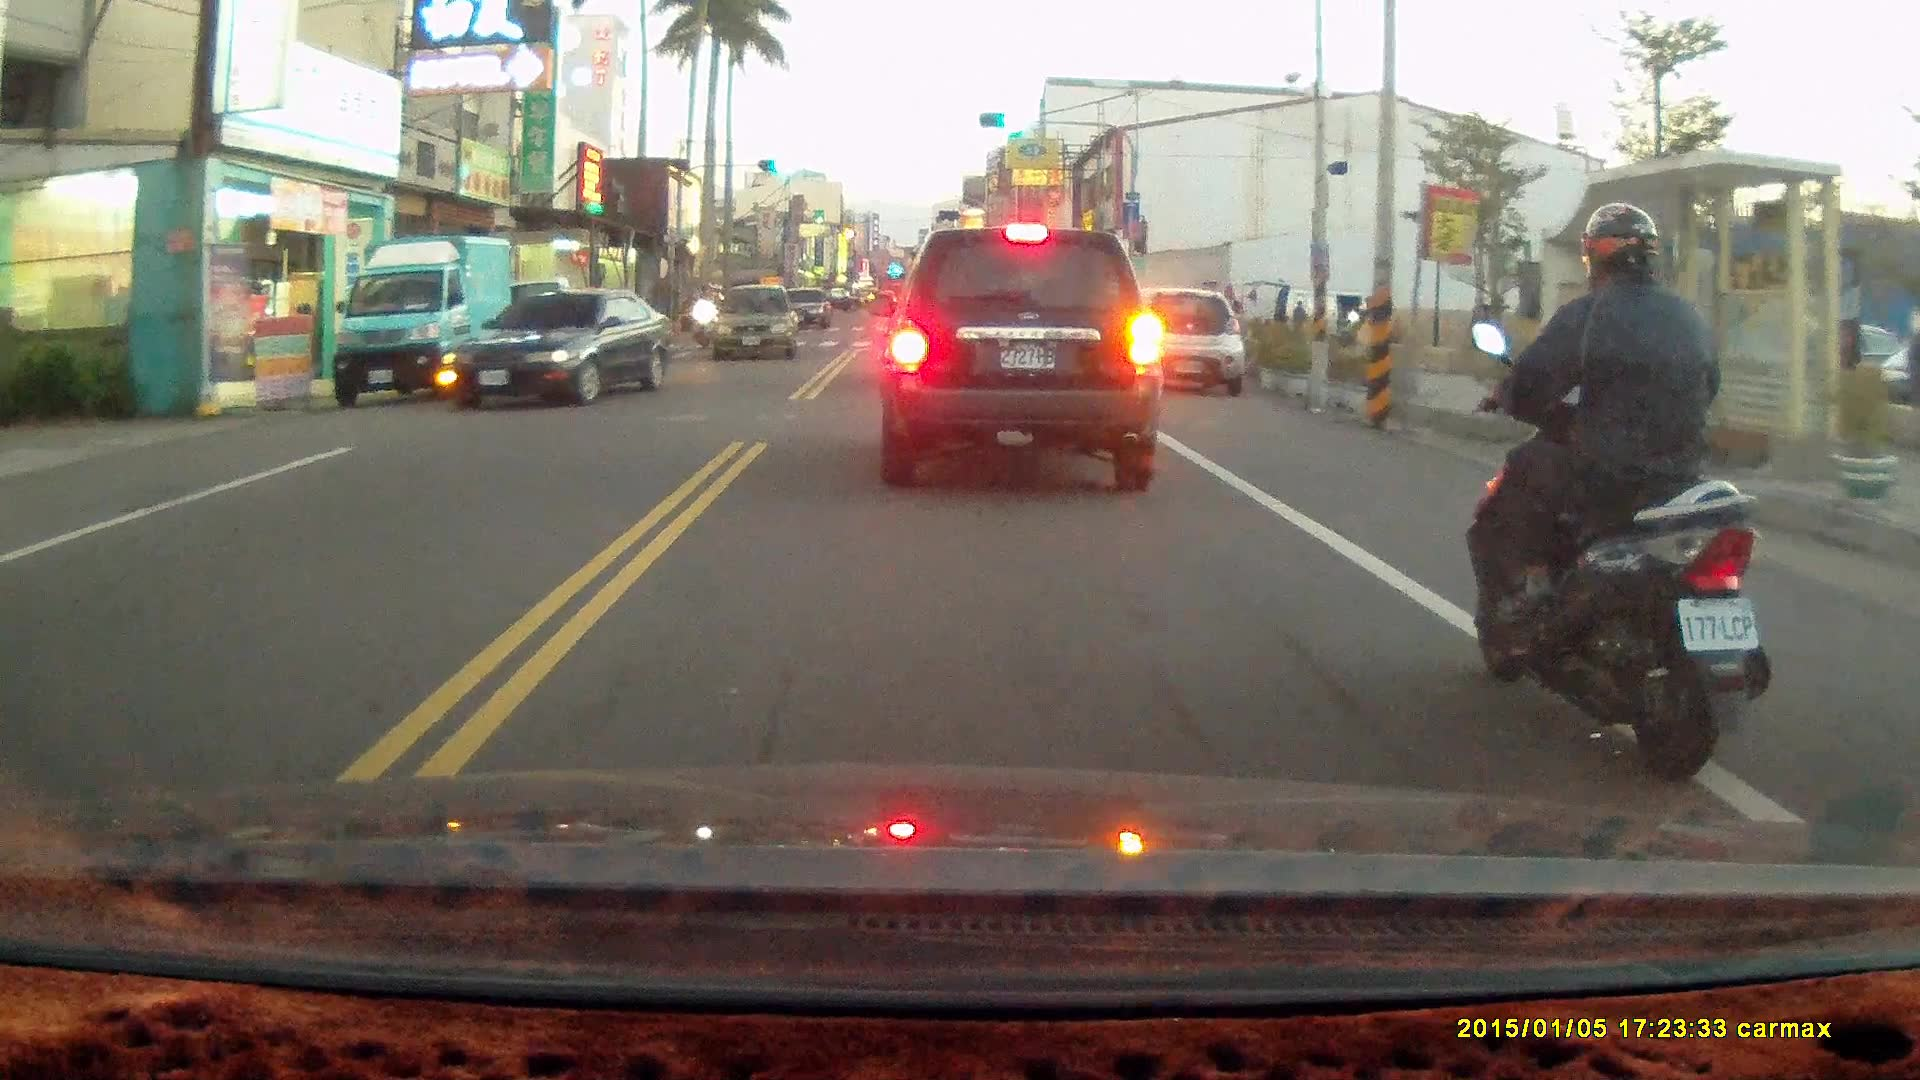rider: (1461, 202, 1767, 785), (688, 282, 721, 353)
vehicle: (876, 222, 1162, 494), (327, 231, 519, 413), (441, 290, 674, 408), (1132, 286, 1248, 402), (706, 286, 804, 365)
